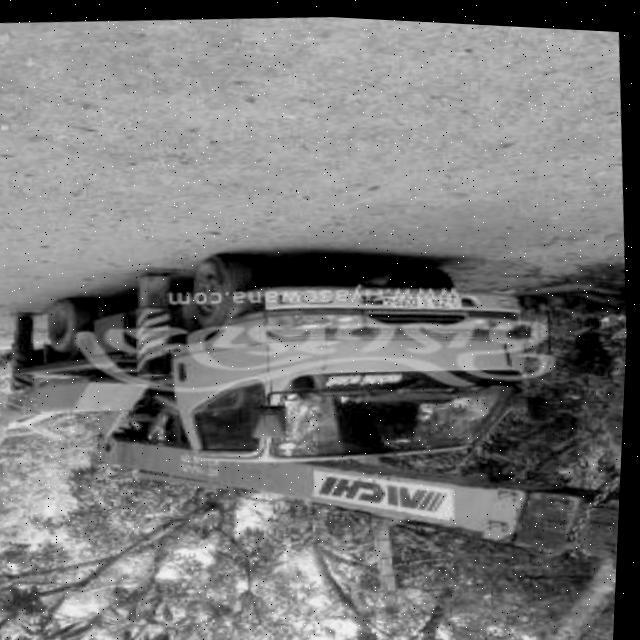truck: (12, 216, 632, 591)
